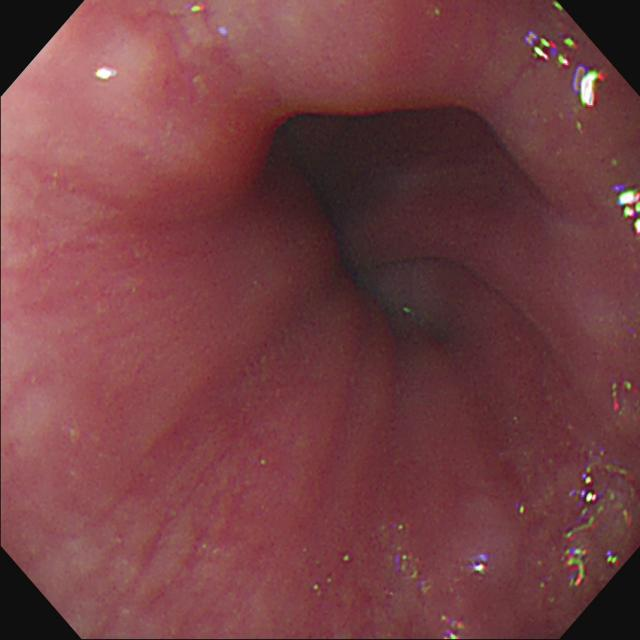E: (278, 112, 415, 328)
U: (527, 31, 578, 67), (573, 66, 605, 111), (613, 184, 640, 237), (563, 550, 590, 590), (570, 472, 600, 503), (605, 551, 620, 568)
